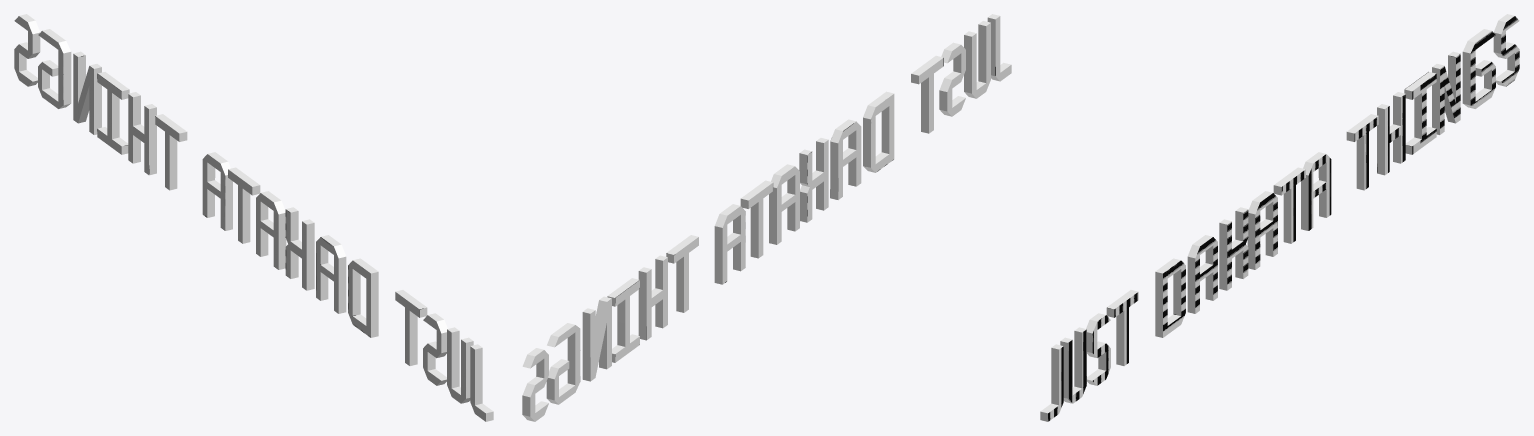
Rendered from justDakataThings.obj.
The picture shows the model from 3 angles, left to right: view 1: azimuth 30°, elevation 25°; view 2: azimuth 150°, elevation 25°; view 3: azimuth 330°, elevation 25°; orthographic projection. The views are drawn at different scales.
Visible parts, largest first — view 1: JustDakataThings_Grid; view 2: JustDakataThings_Grid; view 3: JustDakataThings_Grid.
Part boxes in pixels (x1,y1,x2,y2): JustDakataThings_Grid: (14, 14, 493, 421); JustDakataThings_Grid: (522, 14, 1011, 421); JustDakataThings_Grid: (1040, 14, 1519, 421).
Size of the model in its own units: 0.9826 by 8.03 by 103.
